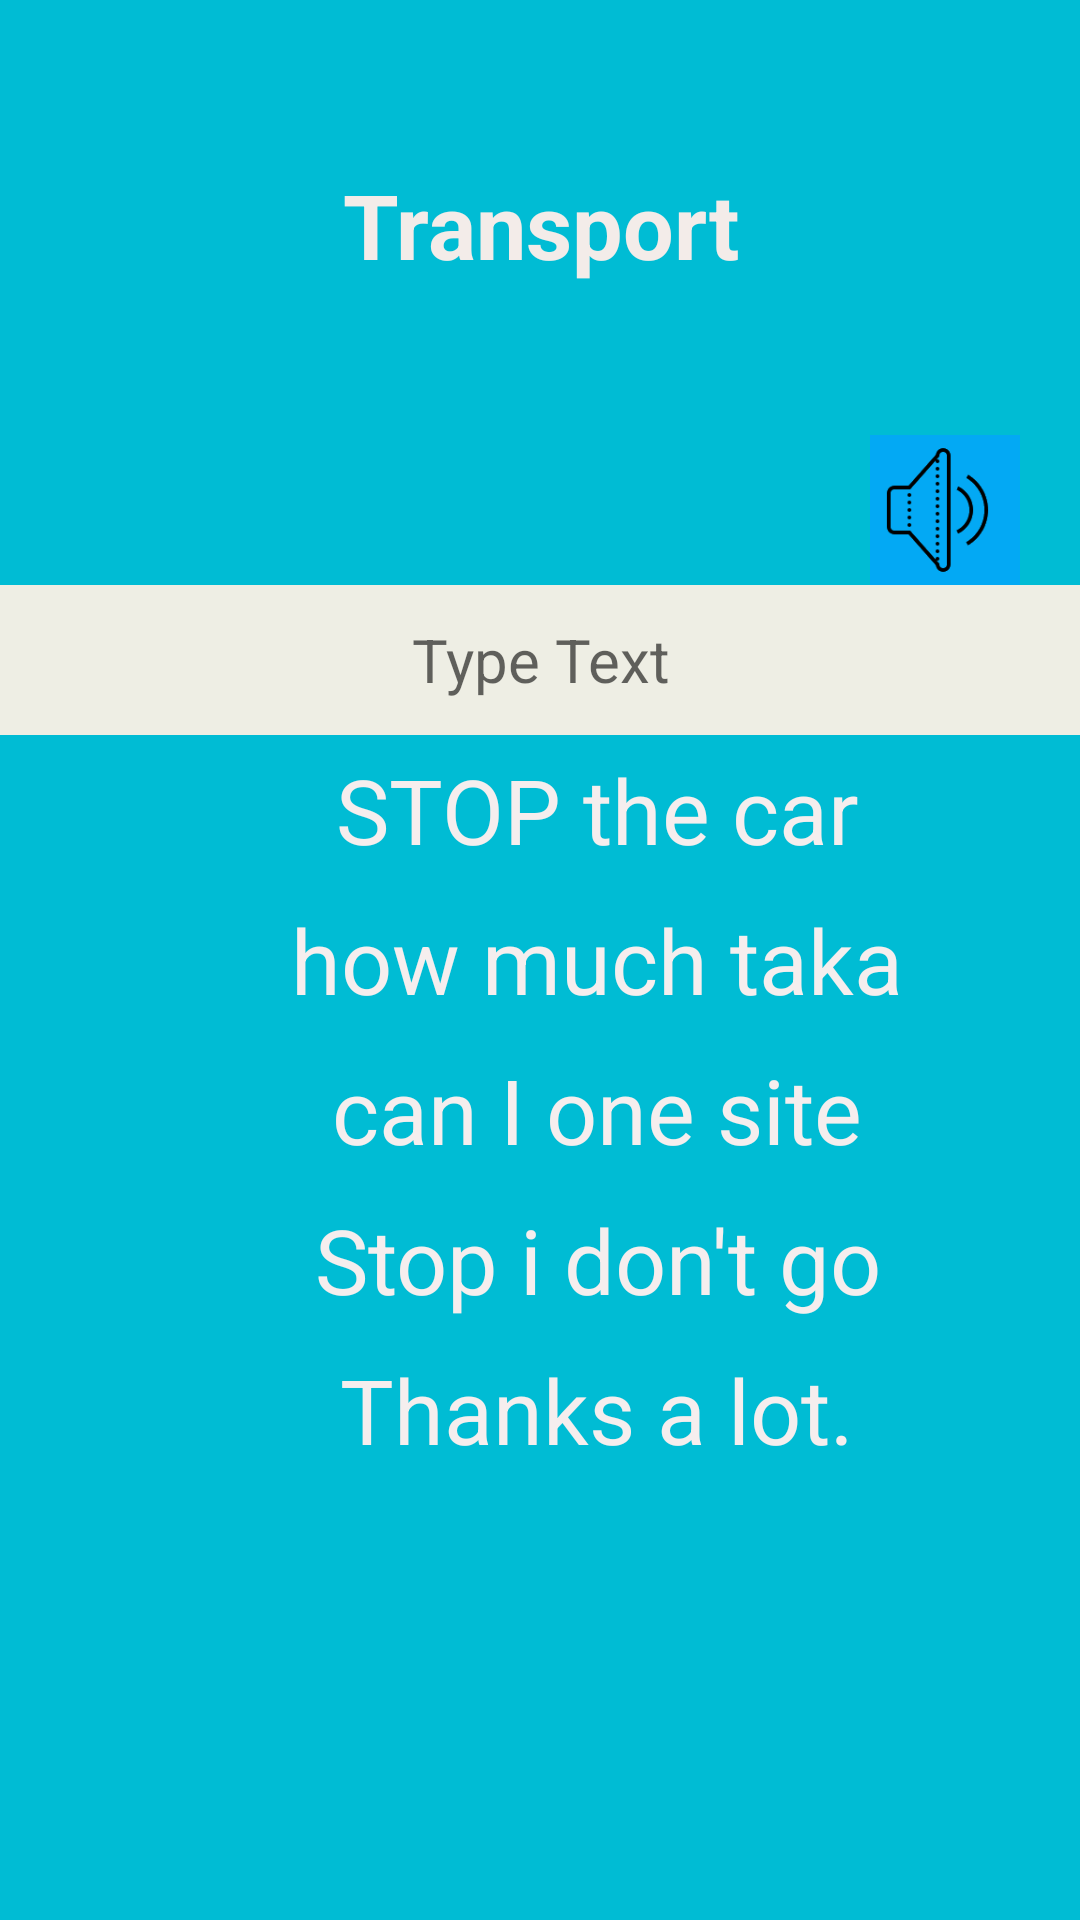

Where to tap for icons on this 1080x1920 app screen, as (x,y):
speka: (945,510)
